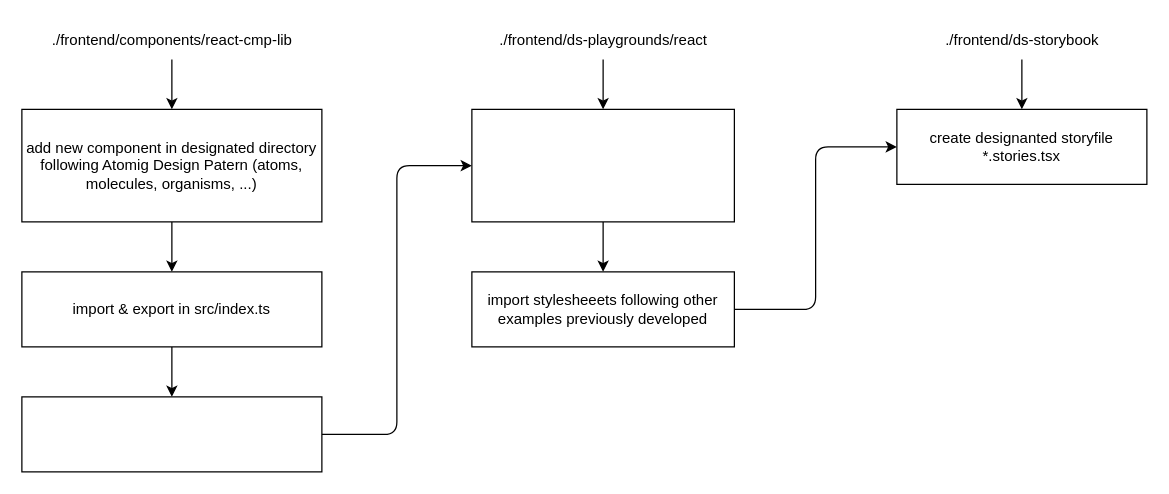
Image size: 1169x494. Some labels were removed from this diagram. The centre of each missing label's shape, as x and y in pixels:
"add as input array in rollup.config.js" belongs at [171,434].
"import TSX component in ./src/index.tsx or desired component" belongs at [602,165].
